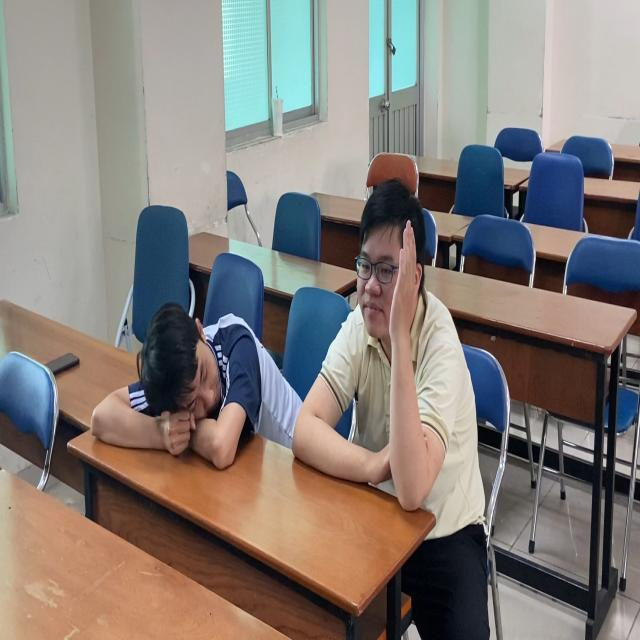raise_hand: (289, 176, 487, 519)
sleep: (88, 293, 292, 470)
